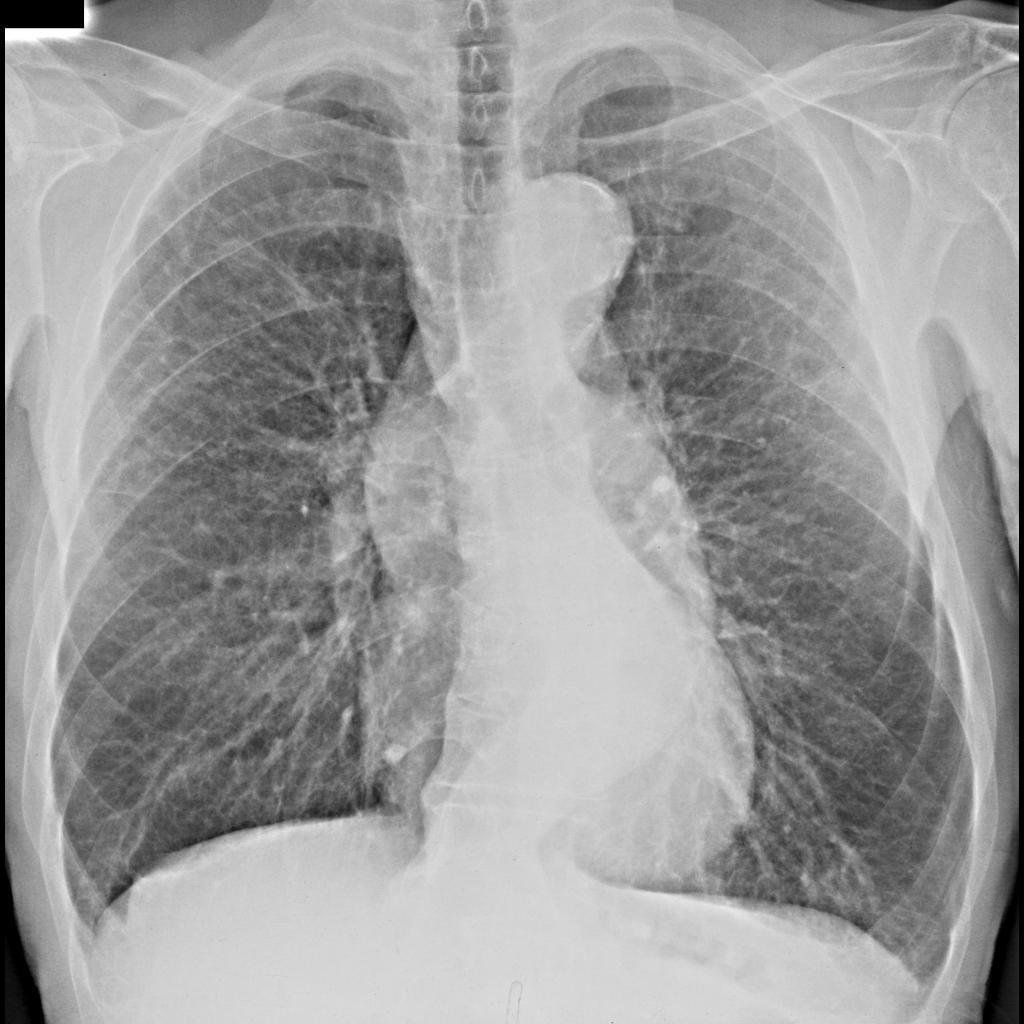Nodule: (212, 226, 270, 283)
